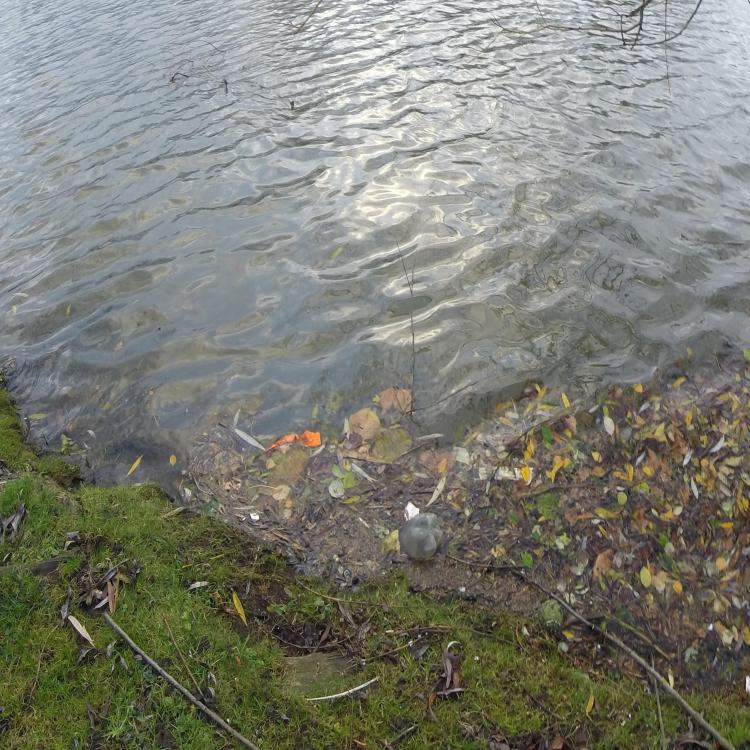Clear plastic bottle: (399, 512, 443, 560)
Other plastic: (263, 428, 321, 453)
